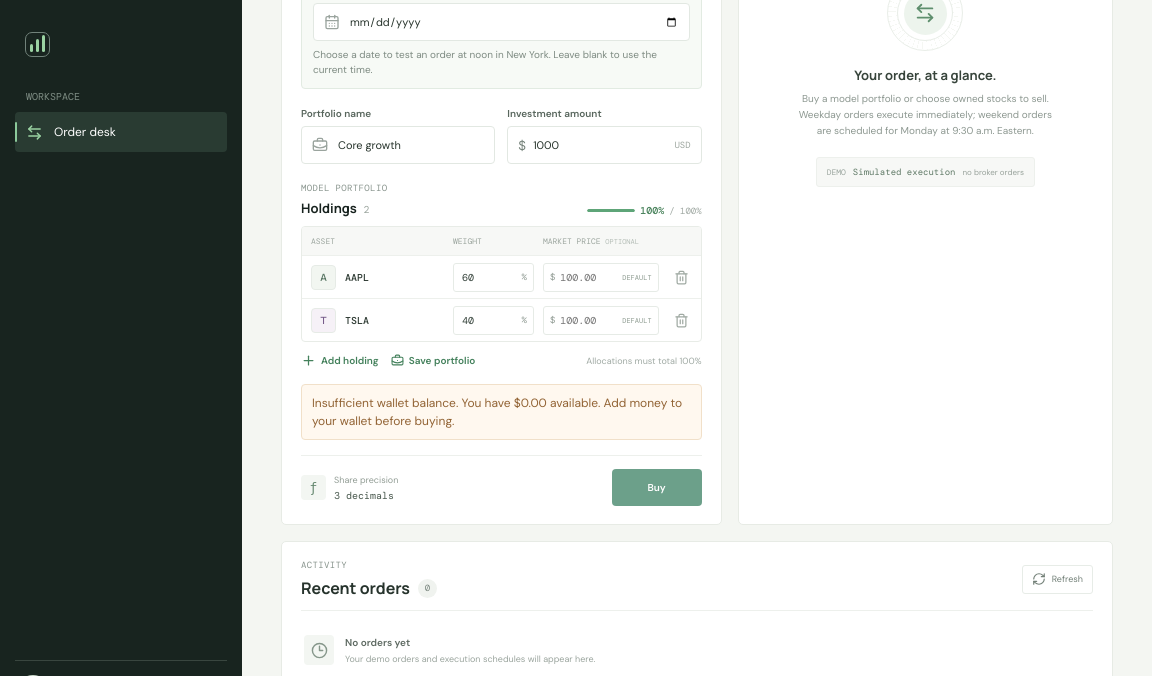
Scenario: order desk › saves the editable model portfolio through the portfolio endpoint
(page scrolled)
Click the button "Save portfolio" at (433, 360), box [391, 351, 475, 370]
(page scrolled)
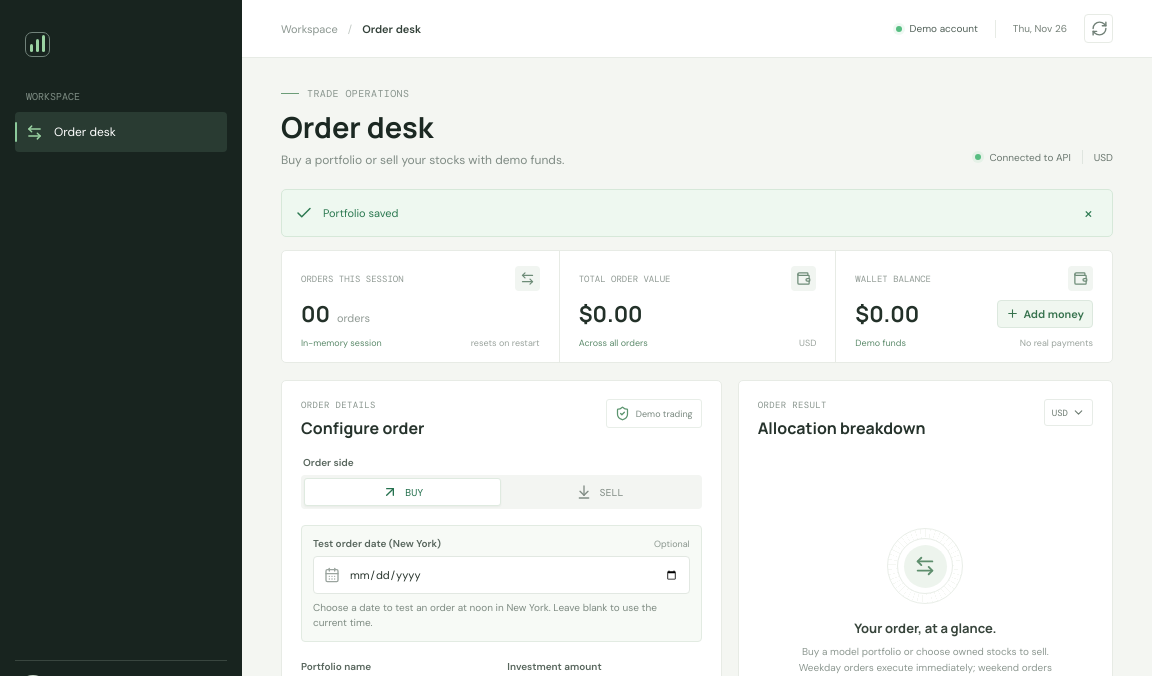
Now the text "Portfolio saved" is shown, box [323, 206, 398, 220]
